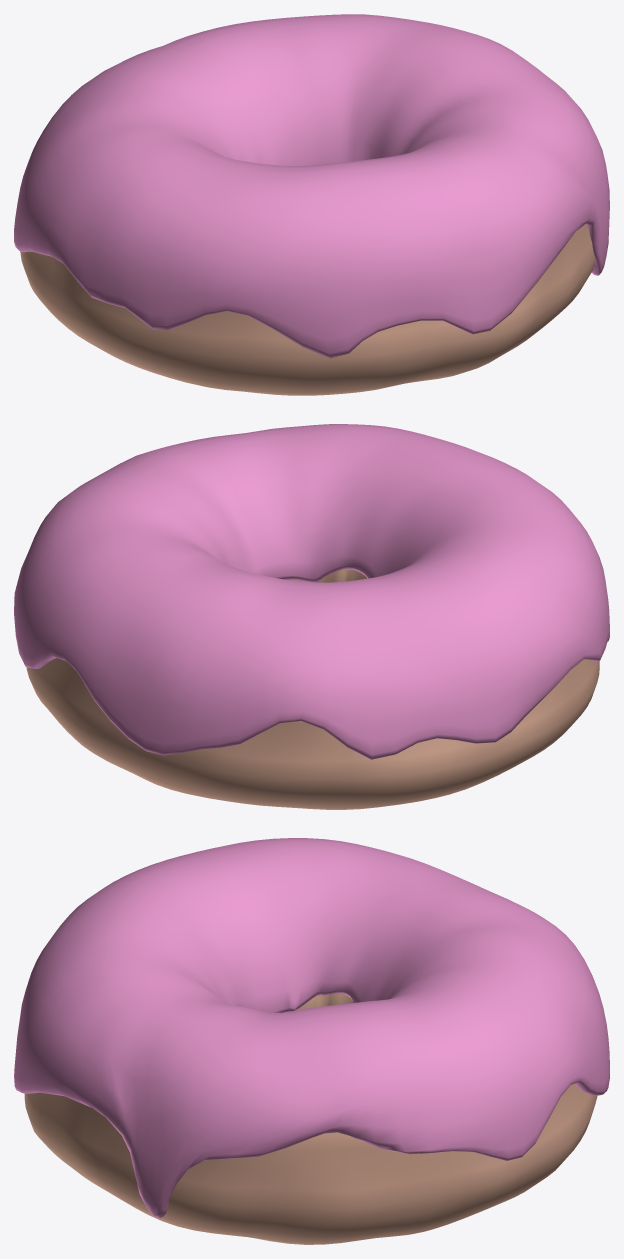
3 views of the same model, one above another, from view 1: azimuth 30°, elevation 25°; view 2: azimuth 150°, elevation 25°; view 3: azimuth 270°, elevation 25° (orthographic). The views are drawn at different scales.
Visible parts, largest first — view 1: Icing, Donut; view 2: Icing, Donut; view 3: Icing, Donut.
Part boxes in pixels (x1=…): Icing: x1=14, y1=14, x2=609, y2=358; Donut: x1=20, y1=224, x2=594, y2=395; Icing: x1=14, y1=424, x2=609, y2=759; Donut: x1=26, y1=569, x2=599, y2=809; Icing: x1=14, y1=838, x2=609, y2=1218; Donut: x1=24, y1=993, x2=597, y2=1244.
Bounding box in the file's own units: 9.57 × 3.76 × 9.3.
